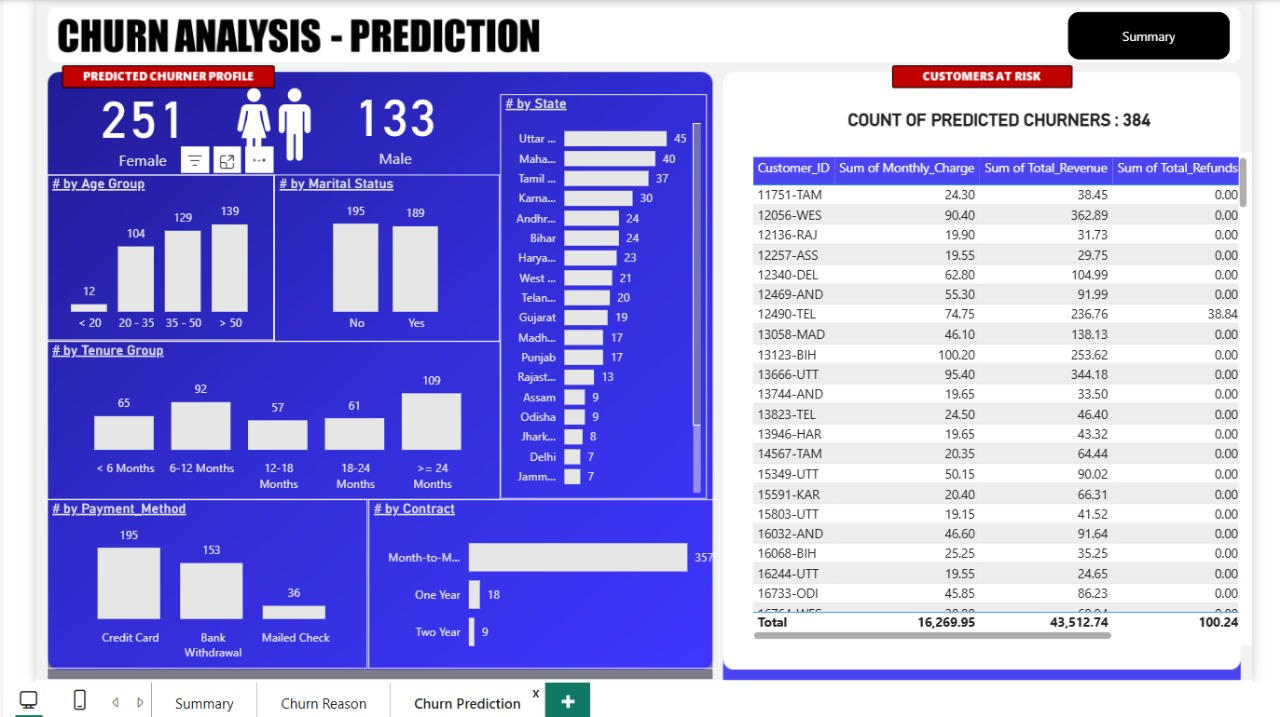

This screenshot's page, from the dashboard's own definition file:
{"tool":"powerbi","page":{"name":"Churn Prediction","canvas":[1280,720],"ordinal":2},"visuals":[{"type":"tableEx","fields":{"Values":["Predictions.Customer_ID","Sum(Predictions.Monthly_Charge)","Sum(Predictions.Total_Revenue)","Sum(Predictions.Total_Refunds)","Sum(Predictions.Number_of_Referrals)"]},"box":[748.1,160.8,531.6,519],"z":0},{"type":"card","fields":{"Values":["tbl_Measures.Title Predicted Churners"]},"box":[796.2,89.9,435.4,74.7],"z":1000},{"type":"card","fields":{"Values":["tbl_Measures.Count Predicted Churner"]},"box":[11.4,77.2,202.5,106.3],"z":2000},{"type":"card","fields":{"Values":["tbl_Measures.Count Predicted Churner"]},"box":[267.1,74.7,221.5,106.3],"z":3000},{"type":"clusteredColumnChart","fields":{"Category":["mapping_AgeGrp.Age Group"],"Y":["CountNonNull(Predictions.Customer_ID)"]},"box":[11.4,183.5,239.2,175.9],"z":4000},{"type":"clusteredColumnChart","fields":{"Category":["Predictions.Married"],"Y":["CountNonNull(Predictions.Customer_ID)"]},"box":[250.6,183.5,238,175.9],"z":5000},{"type":"clusteredColumnChart","fields":{"Y":["CountNonNull(Predictions.Customer_ID)"],"Category":["mapping_TenureGrp.Tenure Group"]},"box":[11.4,359.5,477.2,167.1],"z":6000},{"type":"clusteredColumnChart","fields":{"Y":["CountNonNull(Predictions.Customer_ID)"],"Category":["Predictions.Payment_Method"]},"box":[11.4,526.6,338,178.5],"z":7000},{"type":"clusteredBarChart","fields":{"Category":["Predictions.Contract"],"Y":["CountNonNull(Predictions.Customer_ID)"]},"box":[349.4,526.6,369.6,178.5],"z":8000},{"type":"clusteredBarChart","fields":{"Y":["CountNonNull(Predictions.Customer_ID)"],"Category":["Predictions.State"]},"box":[488.6,100,217.7,426.6],"z":9000},{"type":"image","box":[165.8,77.2,168.4,106.3],"z":10000},{"type":"shape","box":[1086.1,12.7,170.9,50.6],"z":11000}]}

Visuals, with their boxes on the page's 1280x720 design canvas (x1, y1, x2, y2). These are canvas units, not pixel positions in the 1280x717 screenshot, which may show the page scaled, cropped or inside an application window:
tableEx - Predictions.Customer_ID x Sum(Predictions.Monthly_Charge): 748/161/1280/680
card - tbl_Measures.Title Predicted Churners: 796/90/1232/165
card - tbl_Measures.Count Predicted Churner: 11/77/214/184
card - tbl_Measures.Count Predicted Churner: 267/75/489/181
clusteredColumnChart - mapping_AgeGrp.Age Group x CountNonNull(Predictions.Customer_ID): 11/184/251/359
clusteredColumnChart - Predictions.Married x CountNonNull(Predictions.Customer_ID): 251/184/489/359
clusteredColumnChart - CountNonNull(Predictions.Customer_ID) x mapping_TenureGrp.Tenure Group: 11/360/489/527
clusteredColumnChart - CountNonNull(Predictions.Customer_ID) x Predictions.Payment_Method: 11/527/349/705
clusteredBarChart - Predictions.Contract x CountNonNull(Predictions.Customer_ID): 349/527/719/705
clusteredBarChart - CountNonNull(Predictions.Customer_ID) x Predictions.State: 489/100/706/527
image: 166/77/334/184
shape: 1086/13/1257/63
